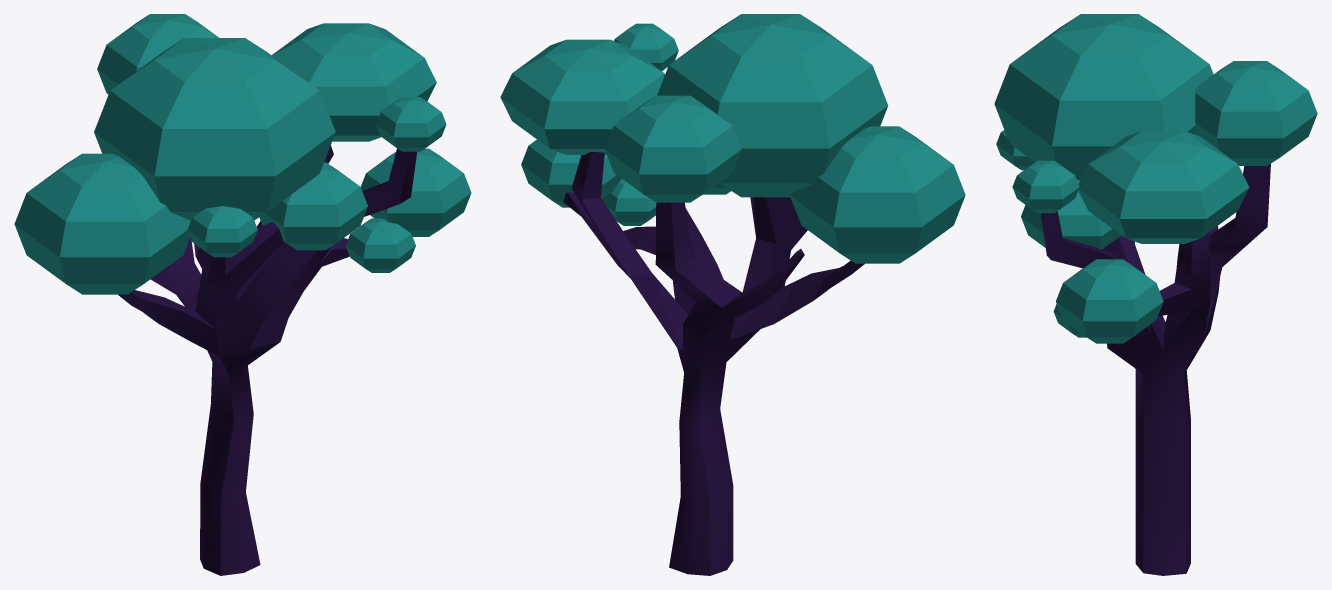
The model's file is arbolNoche1.fbx.
3 renders of one model, left to right at view 1: azimuth 30°, elevation 25°; view 2: azimuth 150°, elevation 25°; view 3: azimuth 270°, elevation 25°, orthographic. The views are drawn at different scales.
Visible parts, largest first — view 1: Sphere.002, pCube1, Sphere, Sphere.001, Sphere.003, Sphere.004, Sphere.007, Sphere.008, Sphere.005, Sphere.006; view 2: pCube1, Sphere.002, Sphere, Sphere.001, Sphere.007, Sphere.004, Sphere.008, Sphere.005; view 3: pCube1, Sphere.002, Sphere.001, Sphere.007, Sphere.004, Sphere.008, Sphere.003, Sphere.006.
Boxes of the visible parts, box(x1,y1,x2,y2) form: Sphere.002: box(94, 38, 335, 220); pCube1: box(118, 145, 417, 575); Sphere: box(14, 153, 190, 294); Sphere.001: box(271, 23, 436, 141); Sphere.003: box(259, 162, 367, 250); Sphere.004: box(361, 148, 471, 236); Sphere.007: box(97, 14, 218, 94); Sphere.008: box(376, 97, 446, 151); Sphere.005: box(345, 218, 415, 272); Sphere.006: box(187, 206, 257, 257); pCube1: box(563, 151, 864, 575); Sphere.002: box(657, 14, 888, 197); Sphere: box(789, 126, 965, 263); Sphere.001: box(500, 39, 664, 154); Sphere.007: box(605, 95, 741, 202); Sphere.004: box(521, 139, 621, 207); Sphere.008: box(614, 23, 678, 70); Sphere.005: box(602, 179, 656, 225); pCube1: box(1040, 164, 1270, 575); Sphere.002: box(994, 14, 1213, 180); Sphere.001: box(1078, 131, 1249, 243); Sphere.007: box(1195, 61, 1317, 165); Sphere.004: box(1056, 259, 1163, 343); Sphere.008: box(1012, 160, 1079, 213); Sphere.003: box(1021, 180, 1121, 249); Sphere.006: box(996, 130, 1034, 170).
Bounding box in the file's own units: 177 × 219 × 124.
